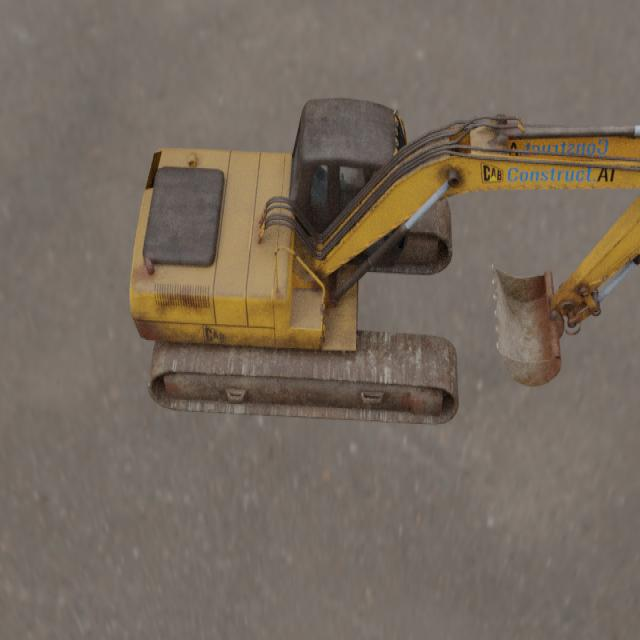excavator: (129, 96, 640, 425)
